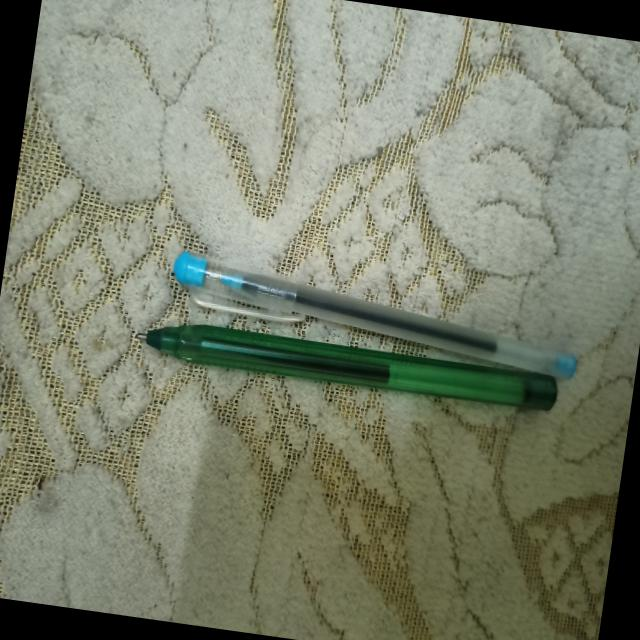pen: (120, 238, 600, 457)
